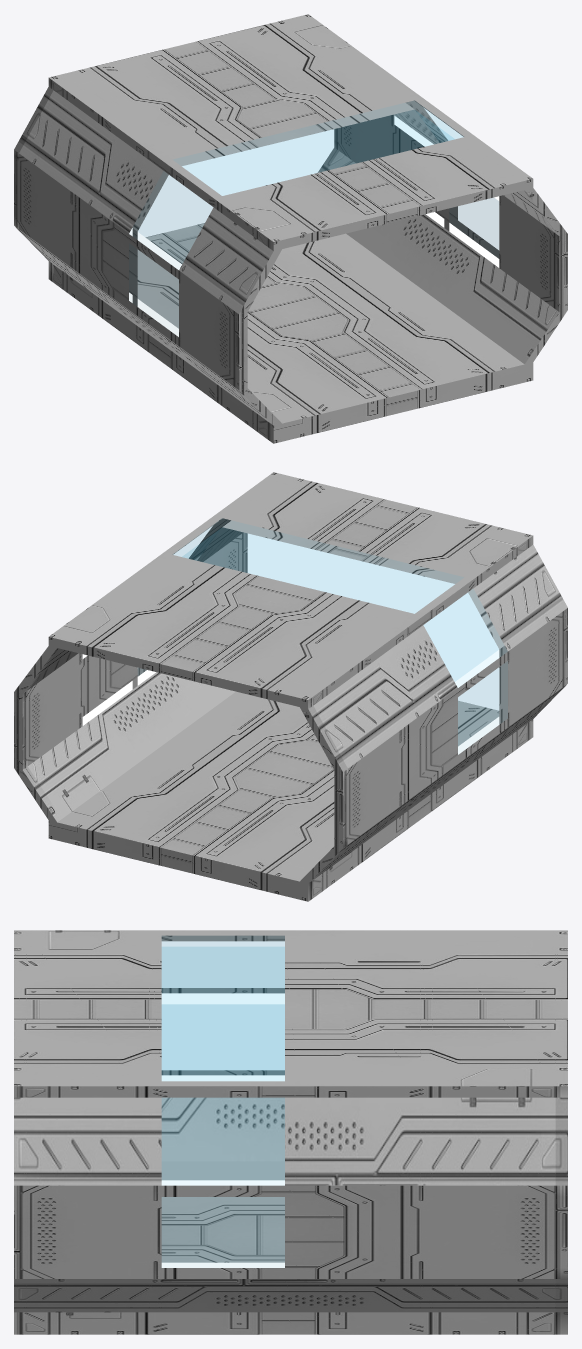
The model's file is modular_hallway_straight_type_01.glb.
The picture shows the model from 3 angles, top to bottom: view 1: azimuth 30°, elevation 25°; view 2: azimuth 150°, elevation 25°; view 3: azimuth 270°, elevation 25°; orthographic projection. The views are drawn at different scales.
Visible parts, largest first — view 1: Gang_grade002; view 2: Gang_grade002; view 3: Gang_grade002.
Part boxes in pixels (<box>): Gang_grade002: <box>14,14,567,443</box>; Gang_grade002: <box>14,472,567,901</box>; Gang_grade002: <box>14,930,567,1334</box>.
Size of the model in its own units: 4.83 by 2.83 by 5.72.
3 materials, 1 textured.
